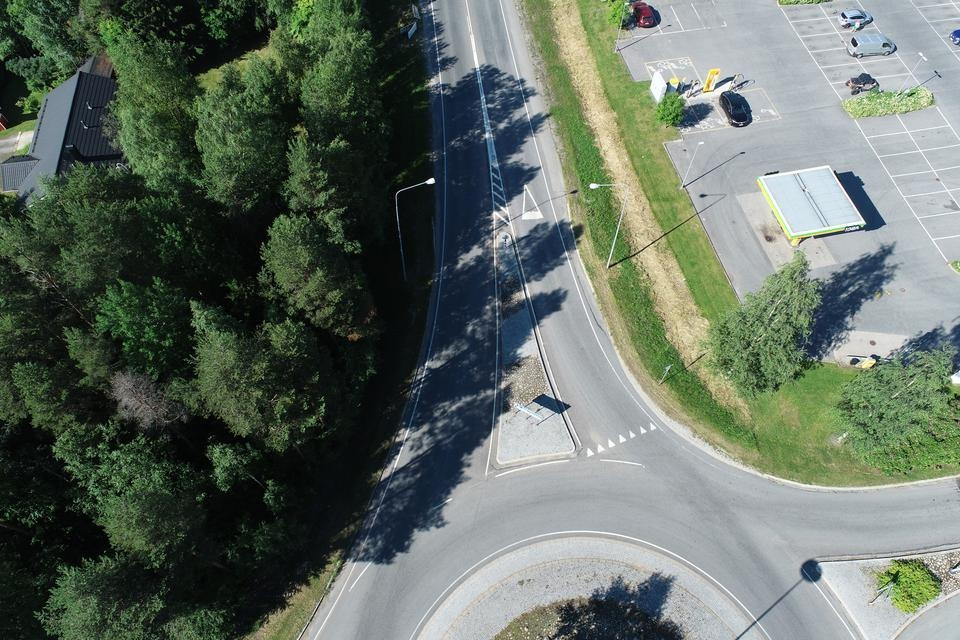roundabout: (247, 434, 925, 640)
